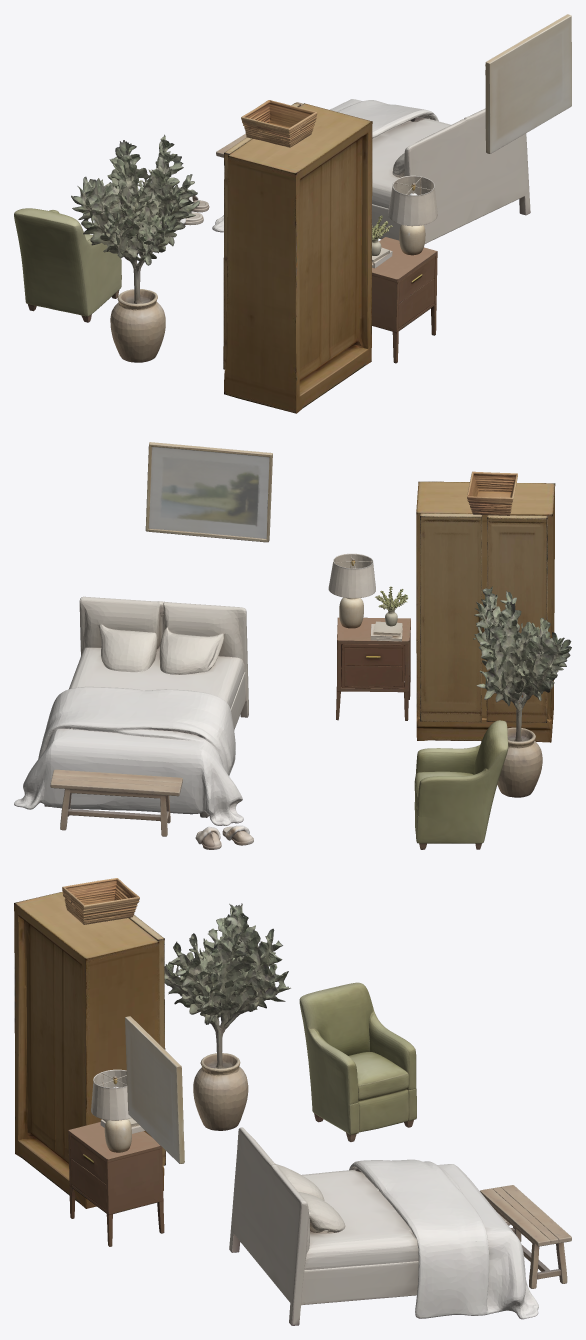
Rendered from bedroom.glb.
3 views of the same model, one above another, from view 1: azimuth 30°, elevation 25°; view 2: azimuth 150°, elevation 25°; view 3: azimuth 270°, elevation 25° (orthographic). The views are drawn at different scales.
Visible parts, largest first — view 1: obj_0_part_0, obj_2_part_0, obj_5_part_0, obj_4_part_0, obj_12_part_0, obj_1_part_0, obj_6_part_0, obj_10_part_0, obj_0_part_1; view 2: obj_2_part_0, obj_0_part_2, obj_12_part_0, obj_5_part_0, obj_4_part_0, obj_0_part_0, obj_0_part_1, obj_3_part_0, obj_6_part_0, obj_1_part_0, obj_10_part_0, obj_1_part_1 (+4 smaller); view 3: obj_2_part_0, obj_0_part_0, obj_4_part_0, obj_5_part_0, obj_1_part_0, obj_12_part_0, obj_3_part_0, obj_10_part_0, obj_6_part_0, obj_0_part_2.
Part boxes in pixels (x1,y1,x2,y2): obj_0_part_0: [224, 103, 372, 413]; obj_2_part_0: [212, 99, 530, 243]; obj_5_part_0: [71, 134, 199, 362]; obj_4_part_0: [14, 208, 121, 322]; obj_12_part_0: [485, 14, 571, 153]; obj_1_part_0: [372, 237, 437, 363]; obj_6_part_0: [388, 175, 437, 255]; obj_10_part_0: [241, 100, 317, 147]; obj_0_part_1: [223, 137, 252, 369]; obj_2_part_0: [14, 596, 248, 825]; obj_0_part_2: [420, 513, 482, 722]; obj_12_part_0: [145, 442, 272, 542]; obj_5_part_0: [473, 586, 571, 797]; obj_4_part_0: [414, 720, 508, 849]; obj_0_part_0: [416, 481, 555, 742]; obj_0_part_1: [486, 515, 547, 722]; obj_3_part_0: [50, 769, 182, 836]; obj_6_part_0: [328, 553, 375, 628]; obj_1_part_0: [336, 617, 410, 720]; obj_10_part_0: [467, 471, 517, 515]; obj_1_part_1: [342, 644, 405, 668]; obj_2_part_0: [229, 1127, 538, 1325]; obj_0_part_0: [14, 891, 164, 1208]; obj_4_part_0: [299, 982, 416, 1141]; obj_5_part_0: [164, 903, 290, 1130]; obj_1_part_0: [68, 1122, 164, 1246]; obj_12_part_0: [125, 1016, 184, 1163]; obj_3_part_0: [480, 1185, 571, 1288]; obj_10_part_0: [62, 878, 139, 924]; obj_6_part_0: [91, 1069, 131, 1152]; obj_0_part_2: [129, 915, 165, 1165].
Size of the model in its own units: 1.94 by 1 by 1.85.
15 materials, 5 textured.
